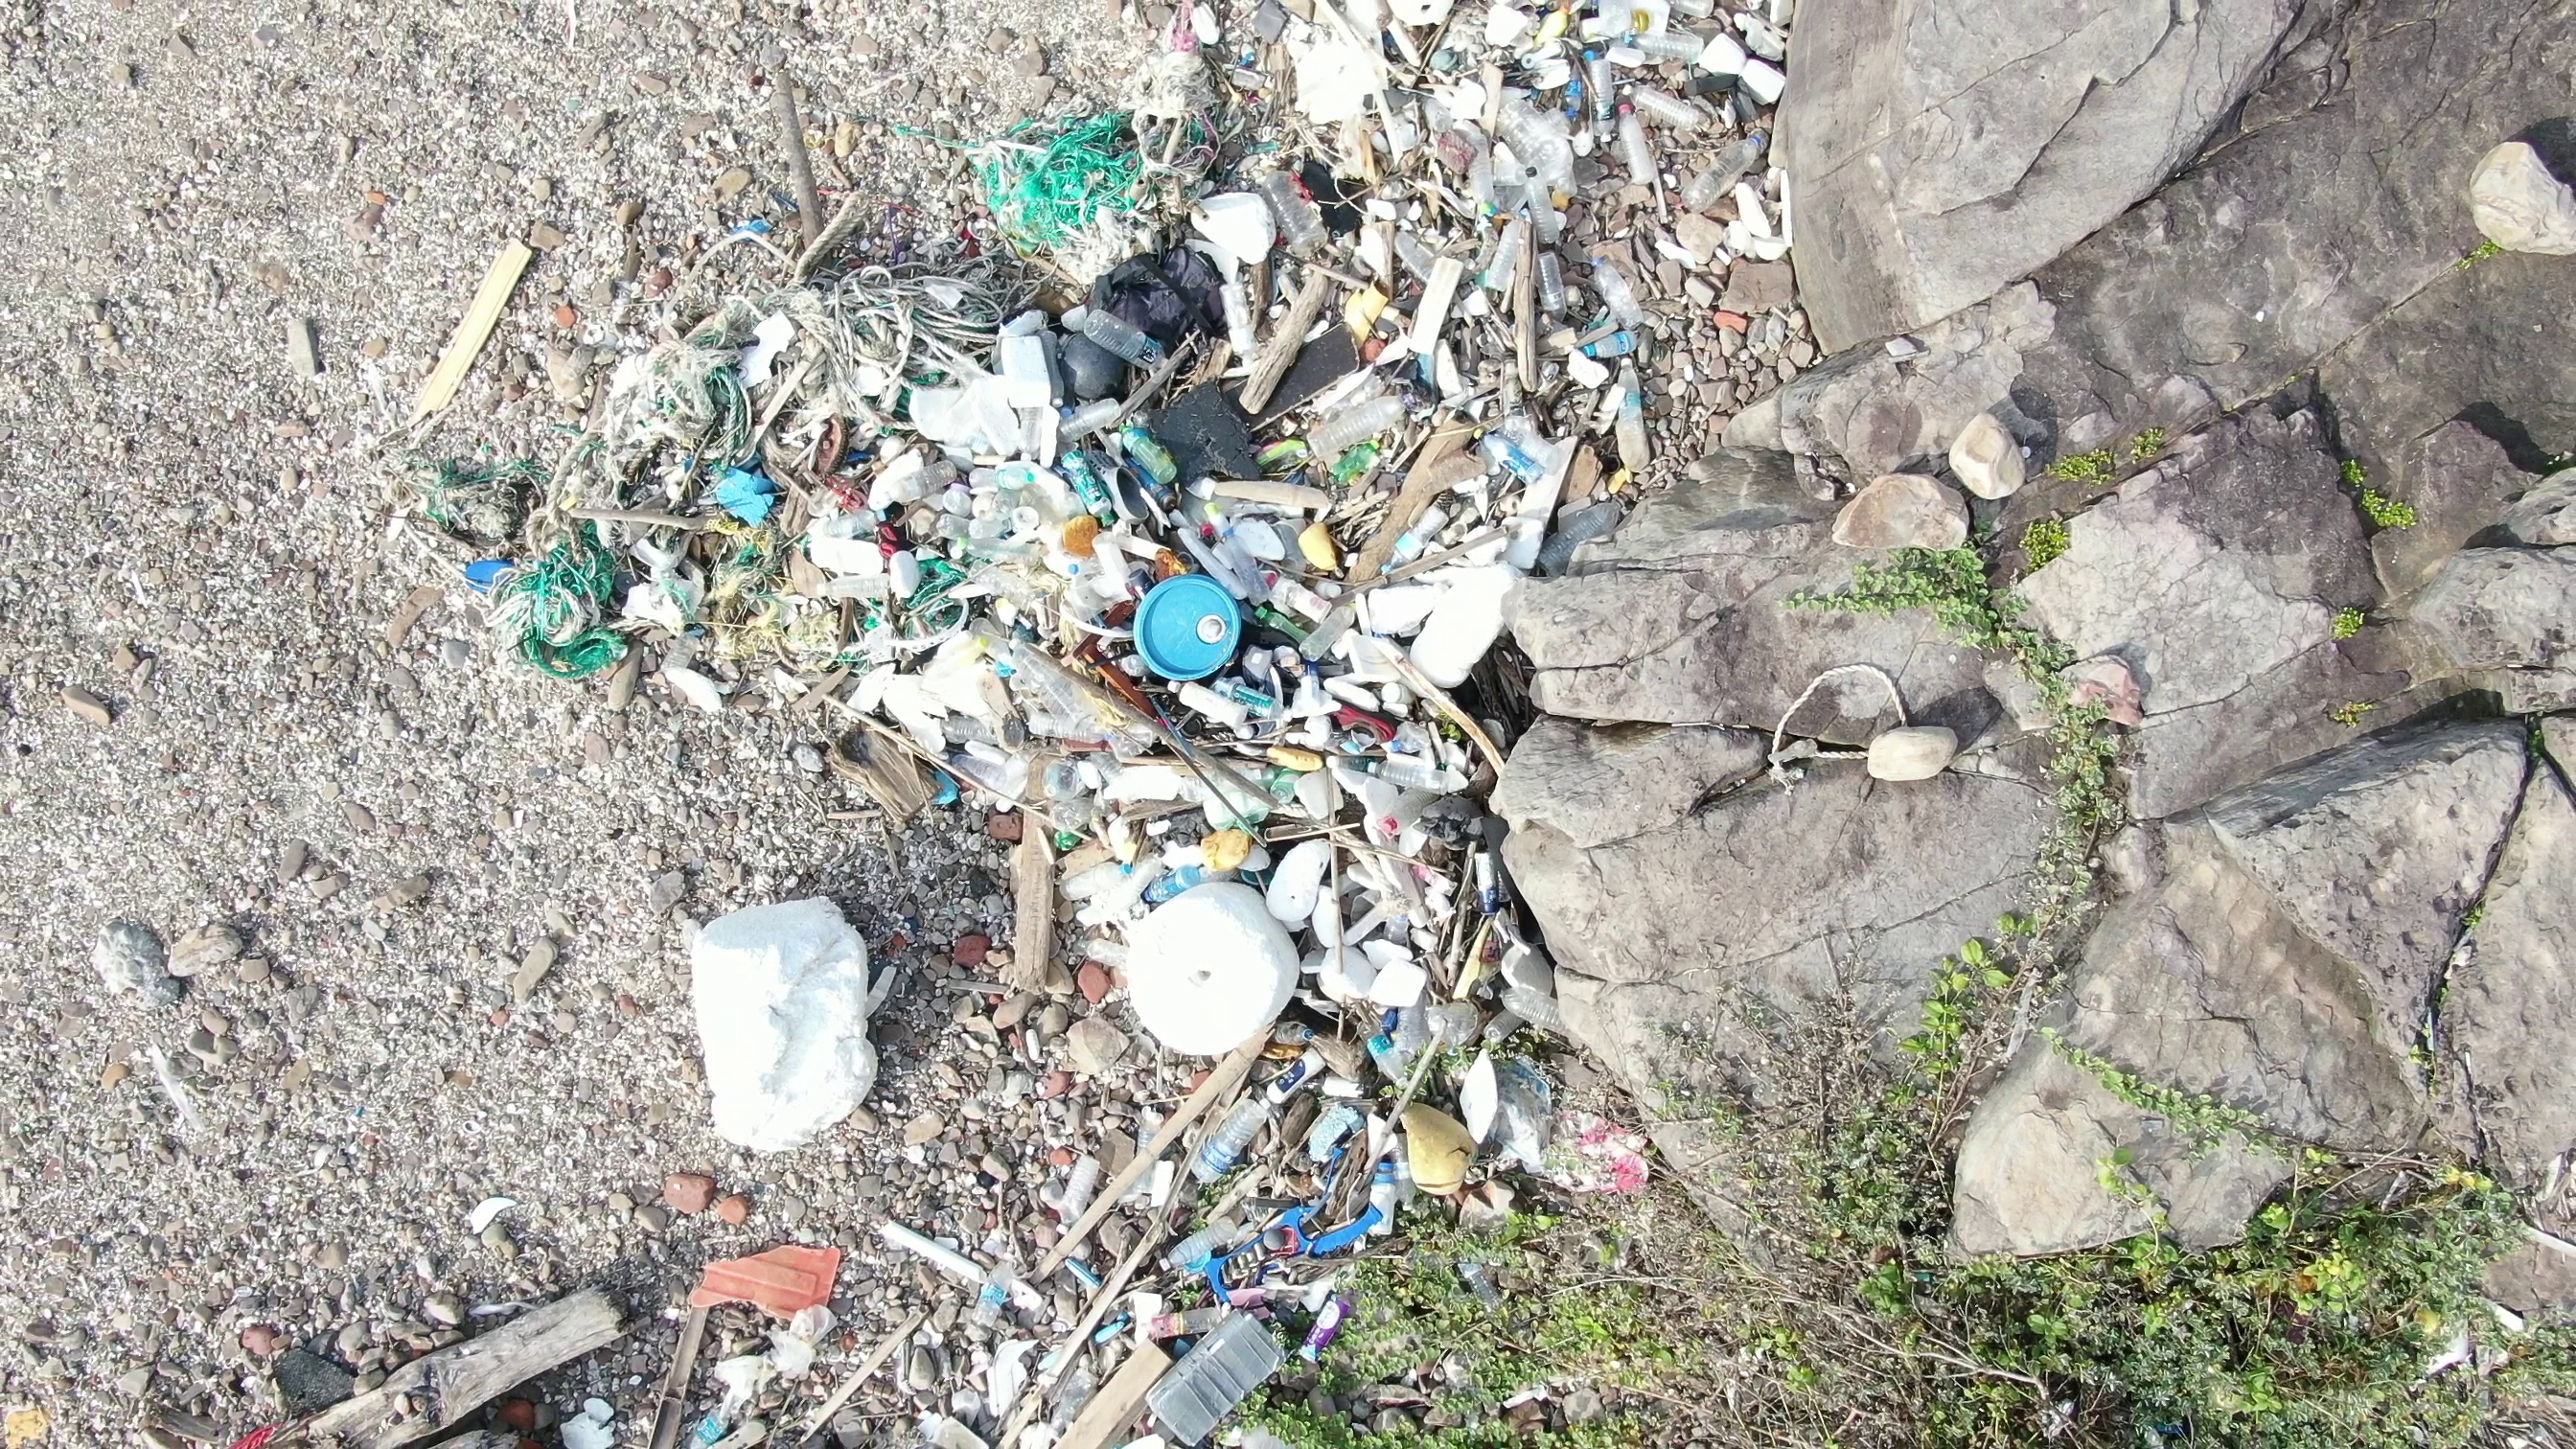bottle: (1300, 380, 1424, 467), (1681, 131, 1782, 212), (1198, 1086, 1277, 1189), (1614, 349, 1665, 487), (1580, 248, 1660, 333), (1077, 306, 1171, 373), (1269, 173, 1330, 265), (1619, 25, 1729, 73), (1520, 152, 1573, 248), (1215, 513, 1269, 607), (1292, 600, 1364, 663), (1467, 428, 1541, 487), (1054, 448, 1111, 524), (1115, 425, 1178, 483), (1532, 251, 1580, 317), (1573, 336, 1651, 364)
garbage: (430, 111, 1681, 711), (939, 717, 1658, 1445), (1106, 2, 1787, 133), (685, 1244, 987, 1449), (1755, 663, 1960, 798)
